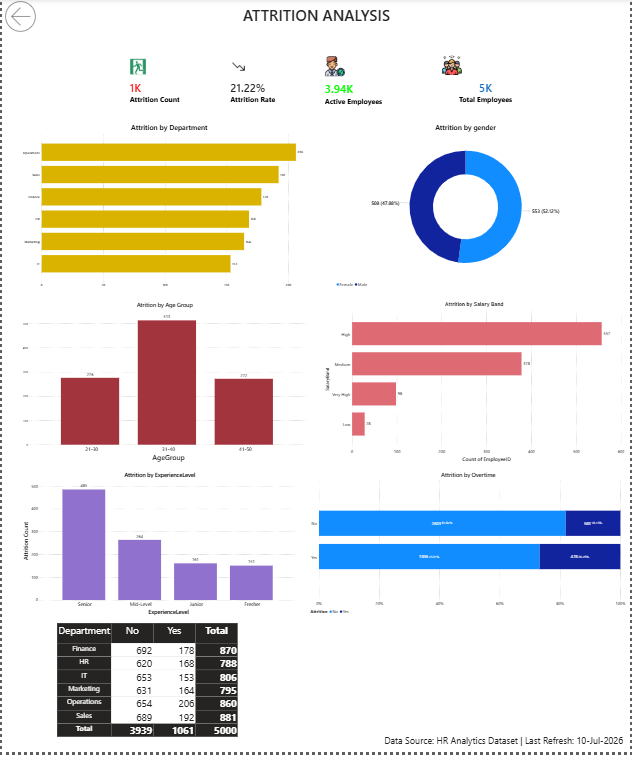

This screenshot's page, from the dashboard's own definition file:
{"tool":"powerbi","page":{"name":"Attrition Analysis","canvas":[3000,3600],"ordinal":1},"visuals":[{"type":"textbox","box":[349,28.2,2302,148.1],"z":0},{"type":"group","id":"g1","title":"Group 1","box":[578.1,225.1,1966.6,338.9],"z":1000},{"type":"clusteredBarChart","title":"Attrition by Department","fields":{"Category":["Employees.Department"],"Y":["CountNonNull(Employees.EmployeeID)"]},"box":[95.3,597.6,1411.4,795.5],"z":2000},{"type":"donutChart","title":"Attrition by gender","fields":{"Category":["Employees.Gender"],"Y":["CountNonNull(Employees.EmployeeID)"]},"box":[1587.4,597.6,1246.4,795.5],"z":3000},{"type":"clusteredColumnChart","title":"Atrition by Age Group","fields":{"Category":["Employees.AgeGroup"],"Y":["CountNonNull(Employees.EmployeeID)"]},"box":[95.3,1444.4,1367.4,773.5],"z":4000},{"type":"barChart","title":"Attrition by Salary Band","fields":{"Category":["Employees.SalaryBand"],"Y":["CountNonNull(Employees.EmployeeID)"]},"box":[1536,1444.4,1444.4,773.5],"z":5000},{"type":"columnChart","title":"Attrition by ExperienceLevel","fields":{"Category":["Employees.ExperienceLevel"],"Y":["Employees.Attrition Count"]},"box":[95.3,2258.2,1319.8,696.5],"z":6000},{"type":"hundredPercentStackedBarChart","title":"Attrition by Overtime","fields":{"Category":["Employees.Overtime"],"Series":["Employees.Attrition"],"Y":["CountNonNull(Employees.EmployeeID)"]},"box":[1466.4,2258.2,1514.1,696.5],"z":7000},{"type":"pivotTable","fields":{"Rows":["Employees.Department"],"Columns":["Employees.Attrition"],"Values":["Count(Employees.EmployeeID)"]},"box":[260.9,2978.8,874.3,592.2],"z":8000},{"type":"actionButton","box":[0,0,193.9,176.3],"z":9000},{"type":"textbox","box":[1790.8,3508.3,1209.2,91.7],"z":9001},{"type":"cardVisual","fields":{"Data":["Divide(Employees.Attrition Rate, ScopedEval(Employees.Attrition Rate, []))"]},"box":[1061.1,229.1,401.9,334.9],"z":9500,"group":"g1"},{"type":"cardVisual","fields":{"Data":["Employees.Active Employees"]},"box":[1508.3,232.2,479.4,331.4],"z":9875,"group":"g1"},{"type":"cardVisual","fields":{"Data":["Employees.Attrition Count"]},"box":[578.1,229.1,401.9,334.9],"z":9968,"group":"g1"},{"type":"cardVisual","fields":{"Data":["Employees.Total Employees"]},"box":[2068.8,225.1,475.9,334.9],"z":9984,"group":"g1"}]}

Visuals, with their boxes in screenshot pixels (x1, y1, x2, y2), scaled from the page's 3000x3600 canvas onto the 632x757 screenshot:
textbox: <bbox>74, 6, 558, 37</bbox>
"Group 1" group: <bbox>122, 47, 536, 119</bbox>
"Attrition by Department" clusteredBarChart: <bbox>20, 126, 317, 293</bbox>
"Attrition by gender" donutChart: <bbox>334, 126, 597, 293</bbox>
"Atrition by Age Group" clusteredColumnChart: <bbox>20, 304, 308, 466</bbox>
"Attrition by Salary Band" barChart: <bbox>324, 304, 628, 466</bbox>
"Attrition by ExperienceLevel" columnChart: <bbox>20, 475, 298, 621</bbox>
"Attrition by Overtime" hundredPercentStackedBarChart: <bbox>309, 475, 628, 621</bbox>
pivotTable - Employees.Department x Employees.Attrition: <bbox>55, 626, 239, 751</bbox>
actionButton: <bbox>0, 0, 41, 37</bbox>
textbox: <bbox>377, 738, 631, 756</bbox>
cardVisual - Divide(Employees.Attrition Rate, ScopedEval(Employees.Attrition Rate, [])): <bbox>224, 48, 308, 119</bbox>
cardVisual - Employees.Active Employees: <bbox>318, 49, 419, 119</bbox>
cardVisual - Employees.Attrition Count: <bbox>122, 48, 206, 119</bbox>
cardVisual - Employees.Total Employees: <bbox>436, 47, 536, 118</bbox>
